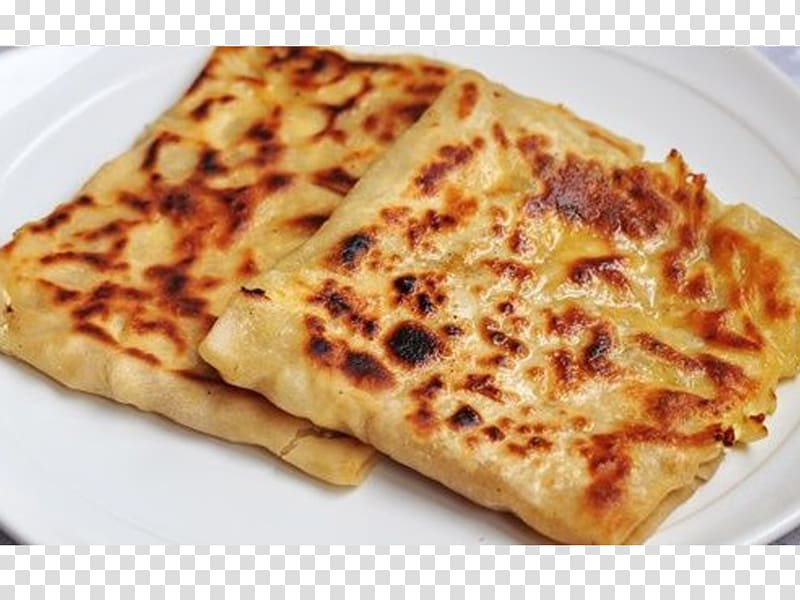aloo_paratha: (1, 48, 797, 546)
